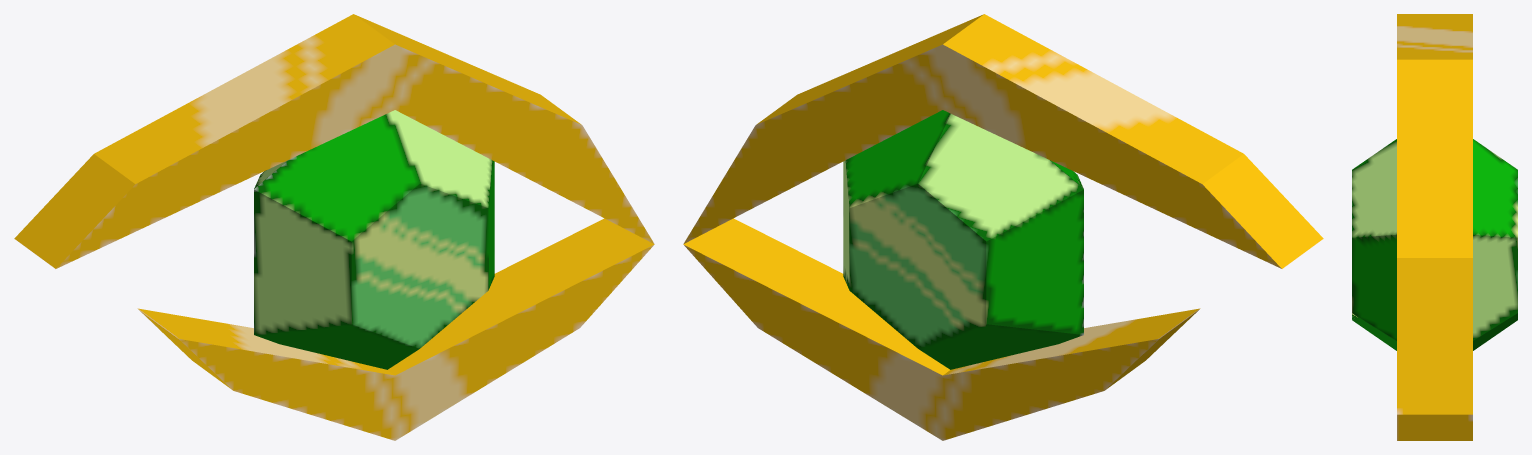
File: Eyeoftruth.fbx
The picture shows the model from 3 angles, left to right: view 1: azimuth 30°, elevation 25°; view 2: azimuth 150°, elevation 25°; view 3: azimuth 270°, elevation 25°; orthographic projection. The views are drawn at different scales.
Parts seen in each view (by area): view 1: Cube; view 2: Cube; view 3: Cube.
Boxes of the visible parts, bbox=[...] form: Cube: bbox=[14, 14, 654, 440]; Cube: bbox=[683, 14, 1323, 440]; Cube: bbox=[1352, 14, 1517, 440].
Bounding box in the file's own units: 231 × 146 × 60.84.
Materials: 1 (1 with a texture image).
